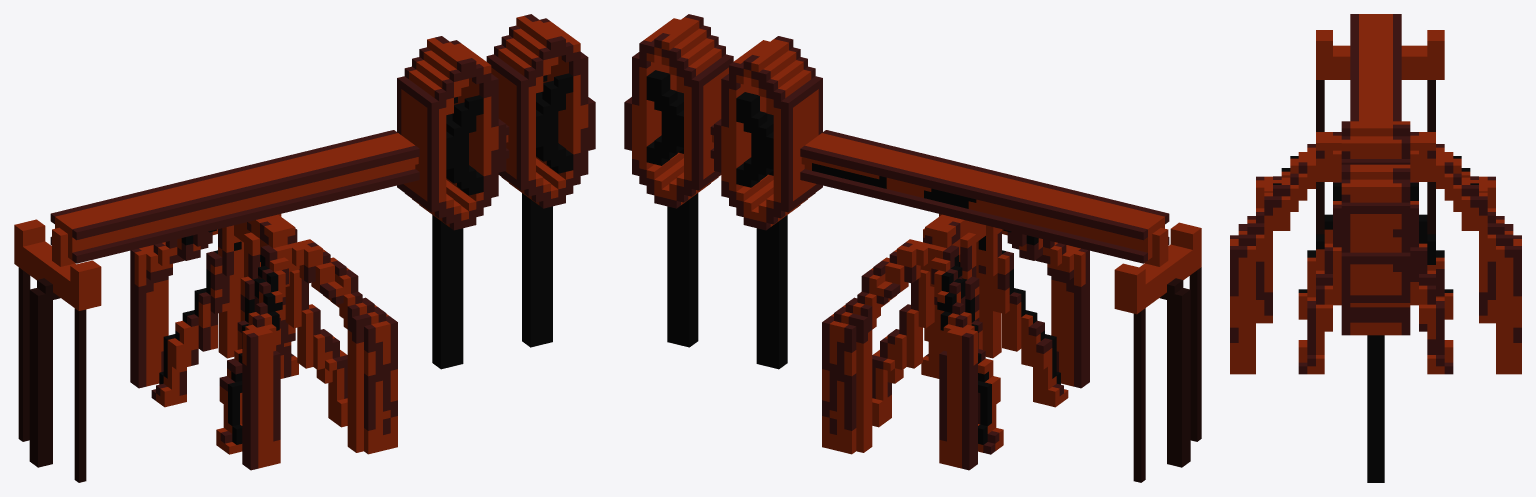
The model's file is OirRig2lvl.fbx.
The picture shows the model from 3 angles, left to right: view 1: azimuth 30°, elevation 25°; view 2: azimuth 150°, elevation 25°; view 3: azimuth 270°, elevation 25°; orthographic projection.
Visible parts, largest first — view 1: Untitled.001, Untitled; view 2: Untitled.001, Untitled; view 3: Untitled, Untitled.001.
Part boxes in pixels (left/top/right/bottom): Untitled.001: left=14, top=14, right=595, bottom=482; Untitled: left=130, top=214, right=397, bottom=470; Untitled.001: left=624, top=14, right=1201, bottom=482; Untitled: left=822, top=214, right=1089, bottom=470; Untitled: left=1230, top=132, right=1521, bottom=374; Untitled.001: left=1316, top=14, right=1444, bottom=482.
Size of the model in its own units: 730 by 400 by 340.
